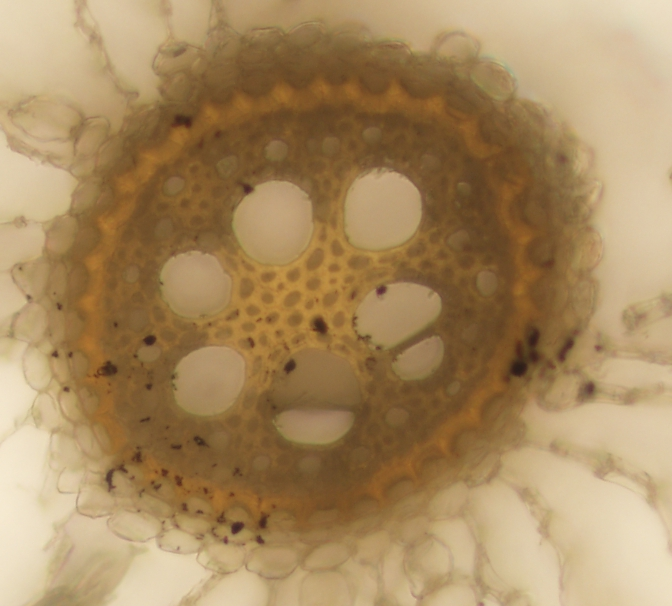lm: (352, 282, 446, 380), (268, 347, 362, 445), (233, 180, 314, 266), (342, 168, 422, 252), (172, 345, 246, 416), (160, 249, 232, 320)
